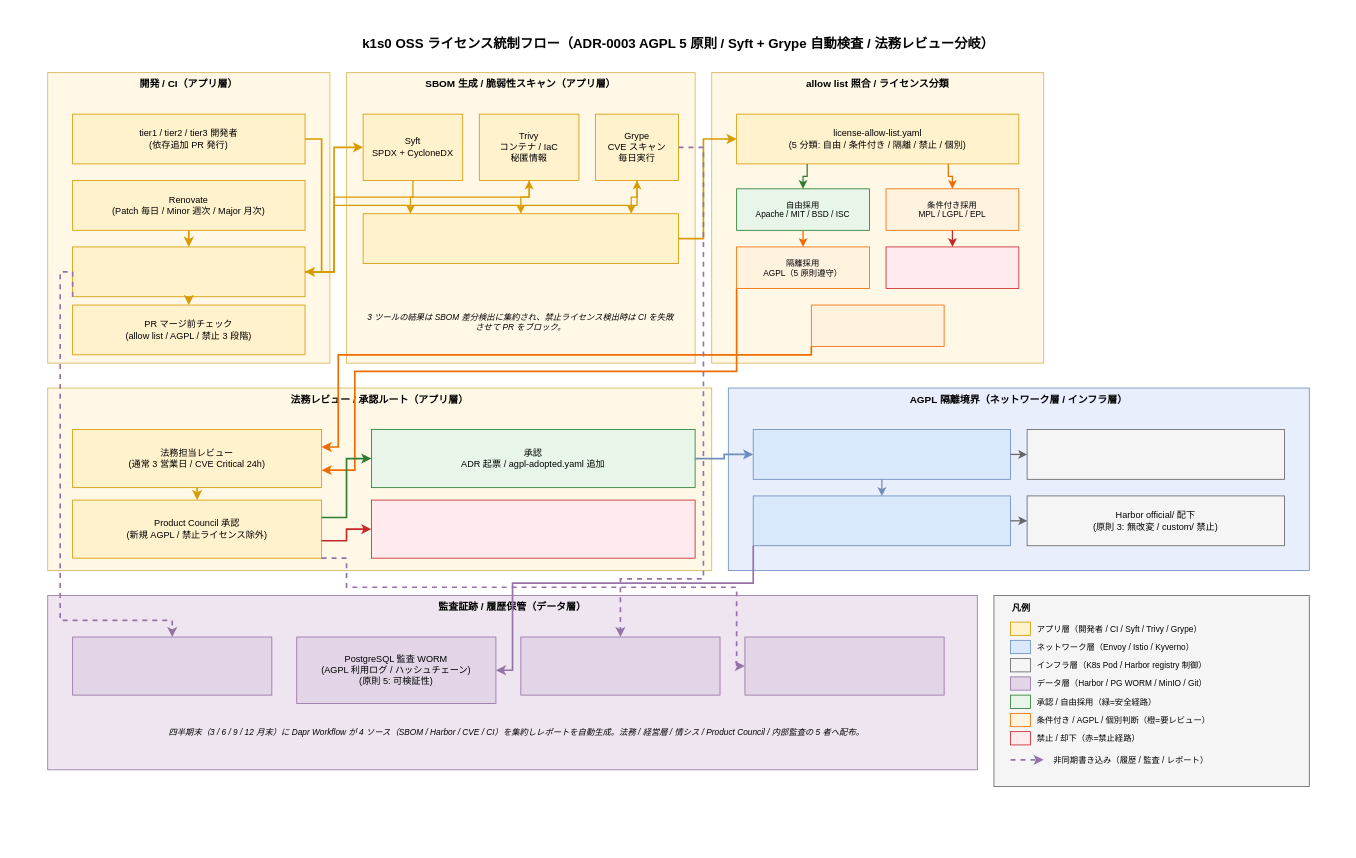
This 1356x858 diagram has some shape labels left out. Each missing label, with the centre of its shape:
"CI パイプライン (全ビルドで SBOM + ライセンス + CVE 検査)" belongs at point 188,271.
"Envoy Gateway + Keycloak OIDC (原則 4: 外部境界遮断)" belongs at point 881,454.
"Git: infra/compliance-reports/ (四半期レポート 5 年保管)" belongs at point 844,665.
"Harbor (コンテナイメージ + SBOM / Cosign 署名)" belongs at point 172,665.
"Istio AuthorizationPolicy / Kyverno (原則 4 + Drift 検出)" belongs at point 881,520.
"Kubernetes Pod 分離 (原則 1: プロセス分離 / 独立 Pod 強制)" belongs at point 1155,454.
"MinIO (CVE 履歴 / Grype DB 月次)" belongs at point 620,665.
"SBOM 差分検出 (新規 / 更新 / 削除を PR にコメント投稿)" belongs at point 520,238.
"個別判断 GPL / CC BY-SA / 独自" belongs at point 877,325.
"却下 代替 OSS 選定（Valkey / OpenSearch / Strimzi 等）" belongs at point 533,528.
"採用禁止 BSL / SSPL / Commons / Elastic v2" belongs at point 952,267.
